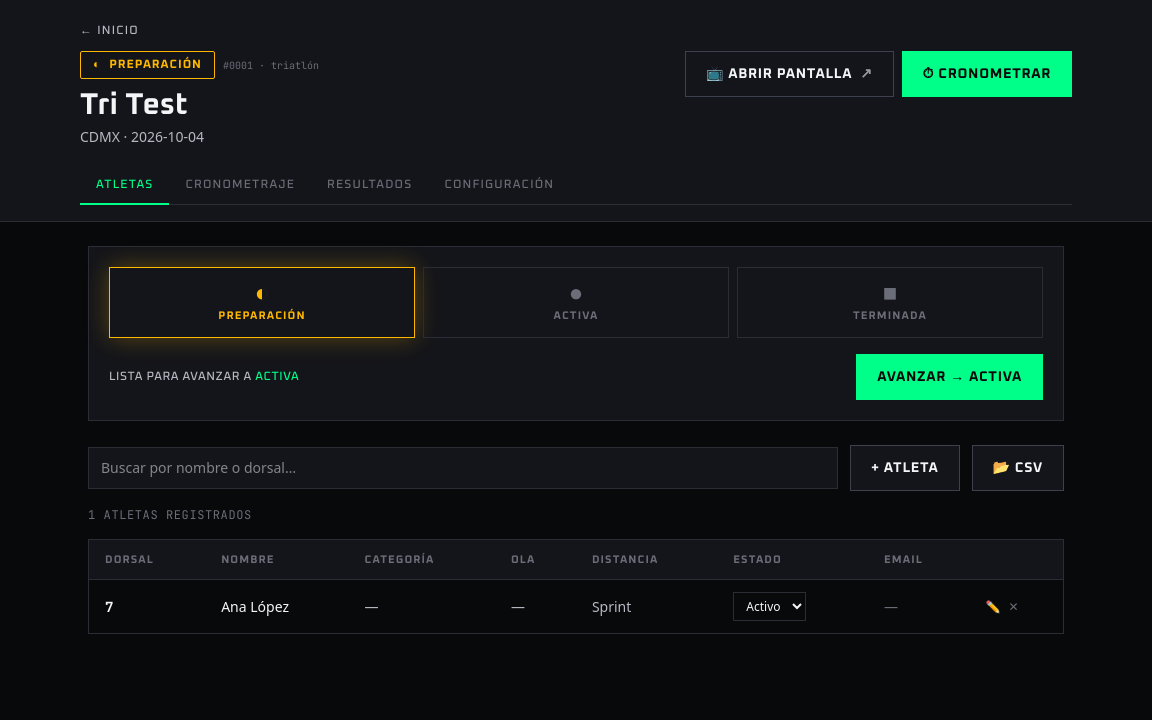
DetalleEvento — distancias en Configuración › does not let a distance that athletes run be removed
Click the button "Configuración": [499, 186] box left=428, top=167, right=570, bottom=205
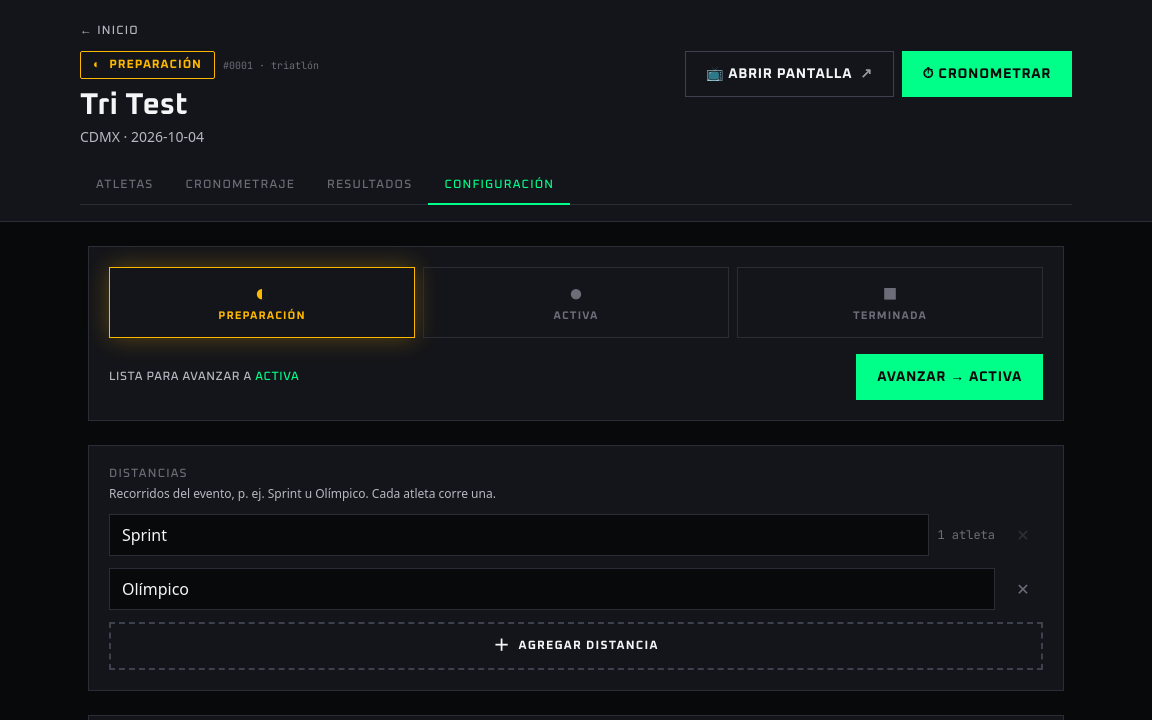
Expected: the button named "Eliminar distancia" is disabled, left=1003, top=514, right=1043, bottom=554
Expected: the button named "Eliminar distancia" is enabled, left=1003, top=568, right=1043, bottom=608
